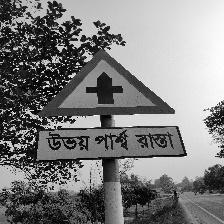Crossroad: (29, 47, 189, 164)
